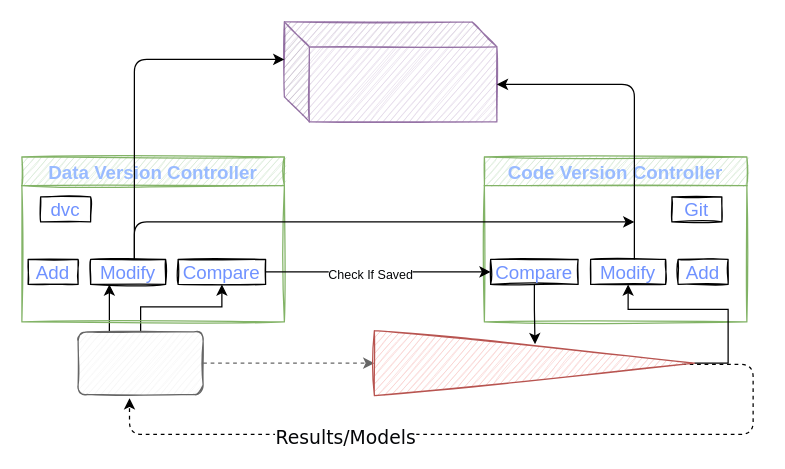
The diagram is 785 pixels wide and 469 high, and some of its shapes have lost their labels. The shapes that lost their labels are listed below. From the top down, each one's centre as x and y in pixels, then its label:
At point 390,71: "Local / Cloud".
At point 140,362: "Data".
At point 533,362: "Process Functions".
